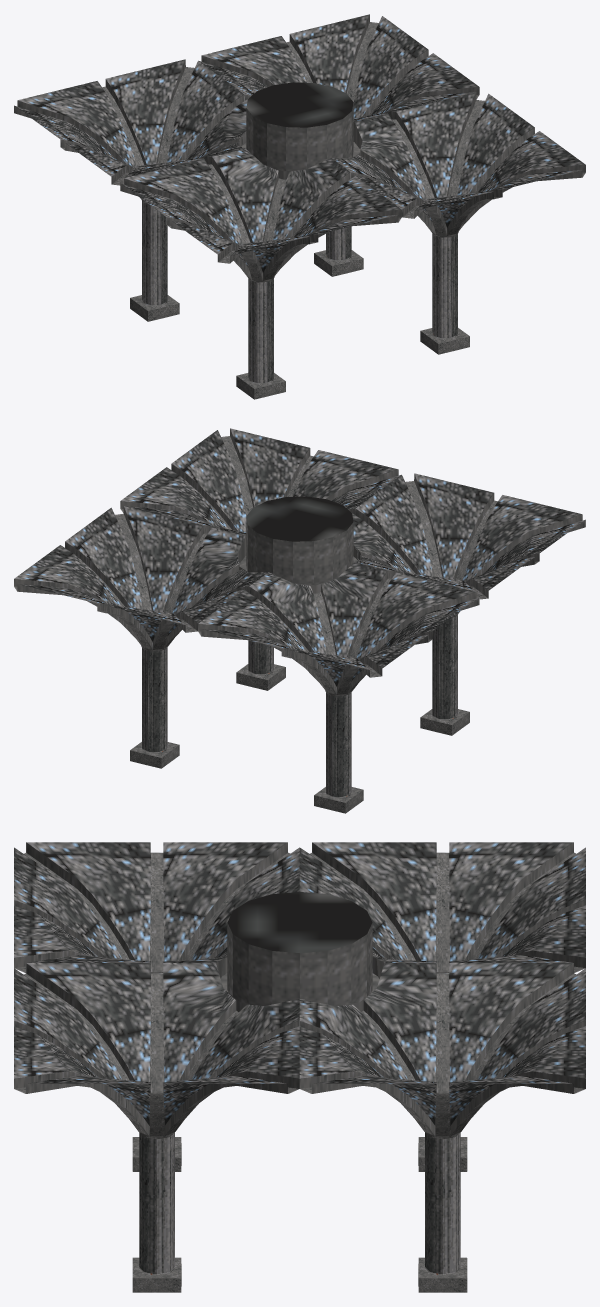
The model's file is SM_Dungeon_Pillar_Arch_Large_Hole.fbx.
The picture shows the model from 3 angles, top to bottom: view 1: azimuth 30°, elevation 25°; view 2: azimuth 150°, elevation 25°; view 3: azimuth 270°, elevation 25°; orthographic projection. The views are drawn at different scales.
Visible parts, largest first — view 1: SM_Dungeon_Pillar_Arch_Large_Hole; view 2: SM_Dungeon_Pillar_Arch_Large_Hole; view 3: SM_Dungeon_Pillar_Arch_Large_Hole.
Boxes of the visible parts, <box> form: SM_Dungeon_Pillar_Arch_Large_Hole: <box>14,14,585,399</box>; SM_Dungeon_Pillar_Arch_Large_Hole: <box>14,428,585,813</box>; SM_Dungeon_Pillar_Arch_Large_Hole: <box>14,842,585,1292</box>.
Bounding box in the file's own units: 800 × 463 × 801.
